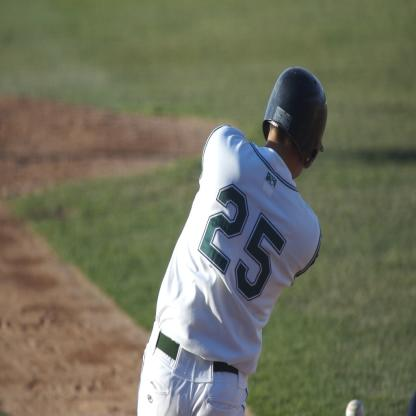Helmet: (260, 66, 330, 168)
